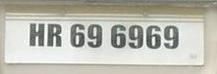6: (108, 23, 126, 49), (68, 21, 85, 47), (144, 24, 161, 49)
9: (162, 24, 180, 50), (126, 23, 143, 50), (86, 23, 102, 48)
H: (28, 21, 45, 46)
R: (46, 22, 62, 47)
